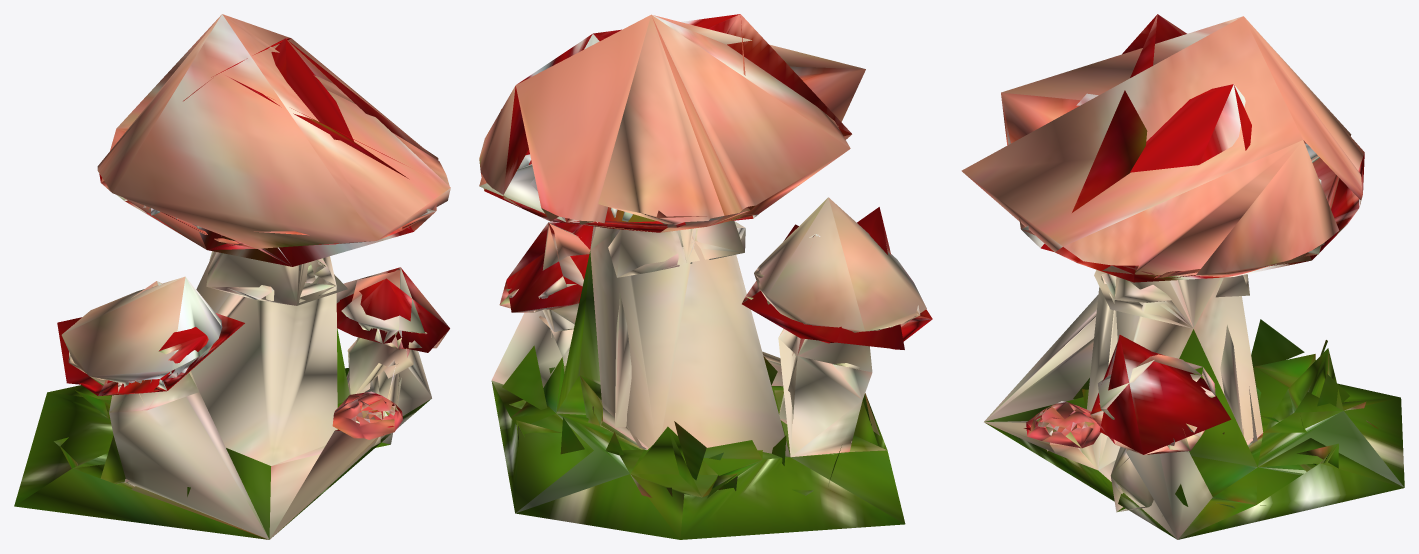
Rendered from sz-mushroom-ring.glb.
The picture shows the model from 3 angles, left to right: view 1: azimuth 30°, elevation 25°; view 2: azimuth 150°, elevation 25°; view 3: azimuth 270°, elevation 25°; orthographic projection. The views are drawn at different scales.
Visible parts, largest first — view 1: geometry_0; view 2: geometry_0; view 3: geometry_0.
Part boxes in pixels (x1=…): geometry_0: x1=14, y1=14, x2=450, y2=539; geometry_0: x1=479, y1=14, x2=932, y2=539; geometry_0: x1=961, y1=14, x2=1404, y2=539.
Bounding box in the file's own units: 0.9846 × 1 × 0.8826.
1 material, 1 textured.
